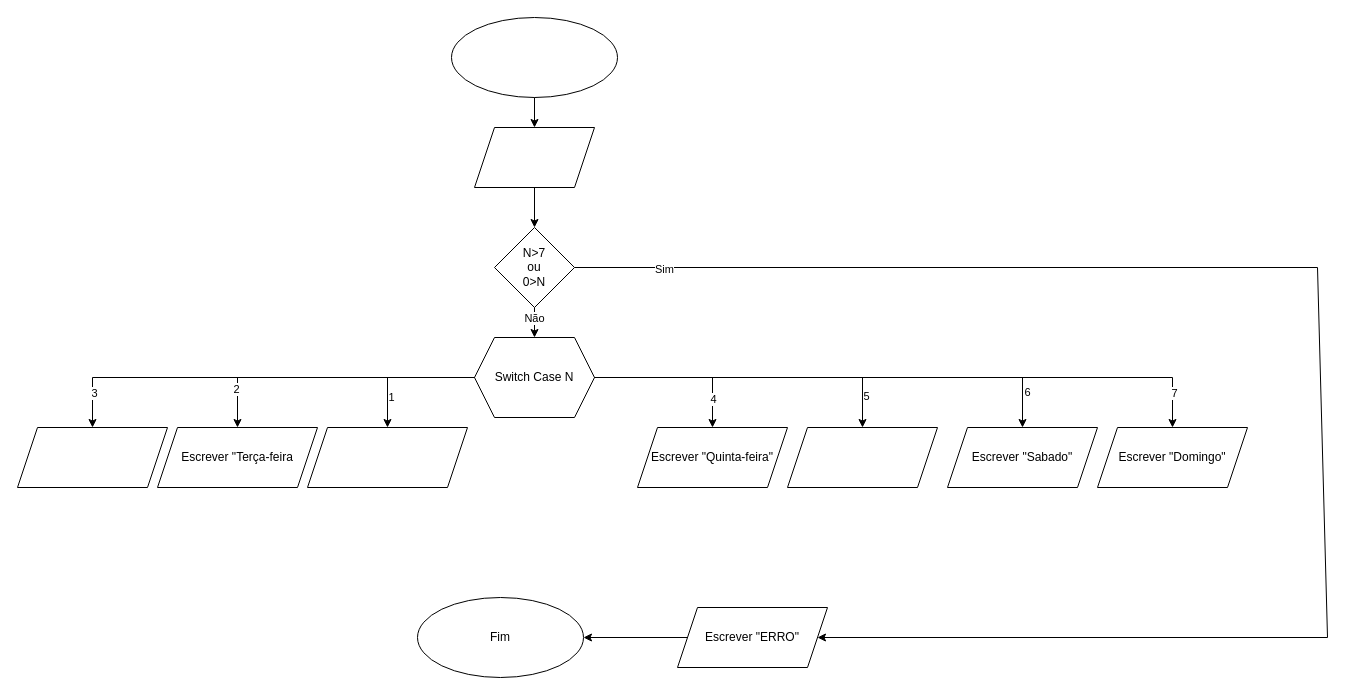
The diagram is 1353 pixels wide and 695 high, and some of its shapes have lost their labels. The centre of each missing label's shape, as x and y in pixels:
Escrever "Quarta-feira: (x=92, y=457)
Escrever "Segunda-feira: (x=387, y=457)
Escrever "Sexta-feira": (x=862, y=457)
Ler N: (x=534, y=157)
